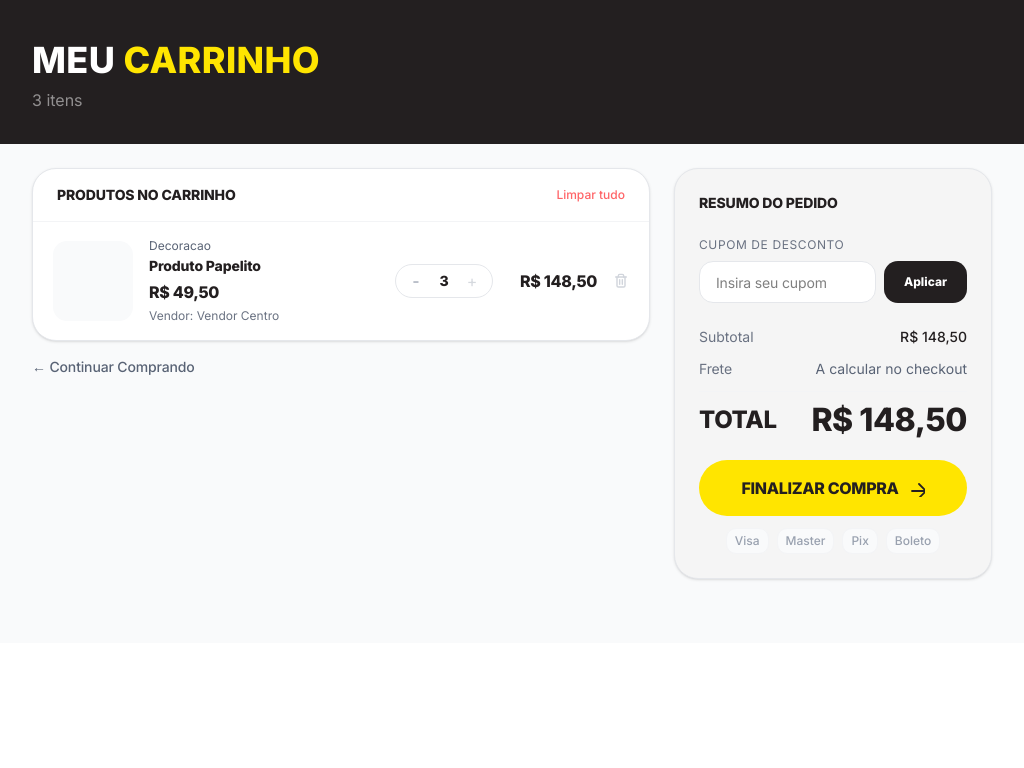
Test case: CartPageContent stock validation › revalidates and stops navigation when stock changed before checkout
Click the button "Finalizar Compra": (833, 488) [699,460,967,516]
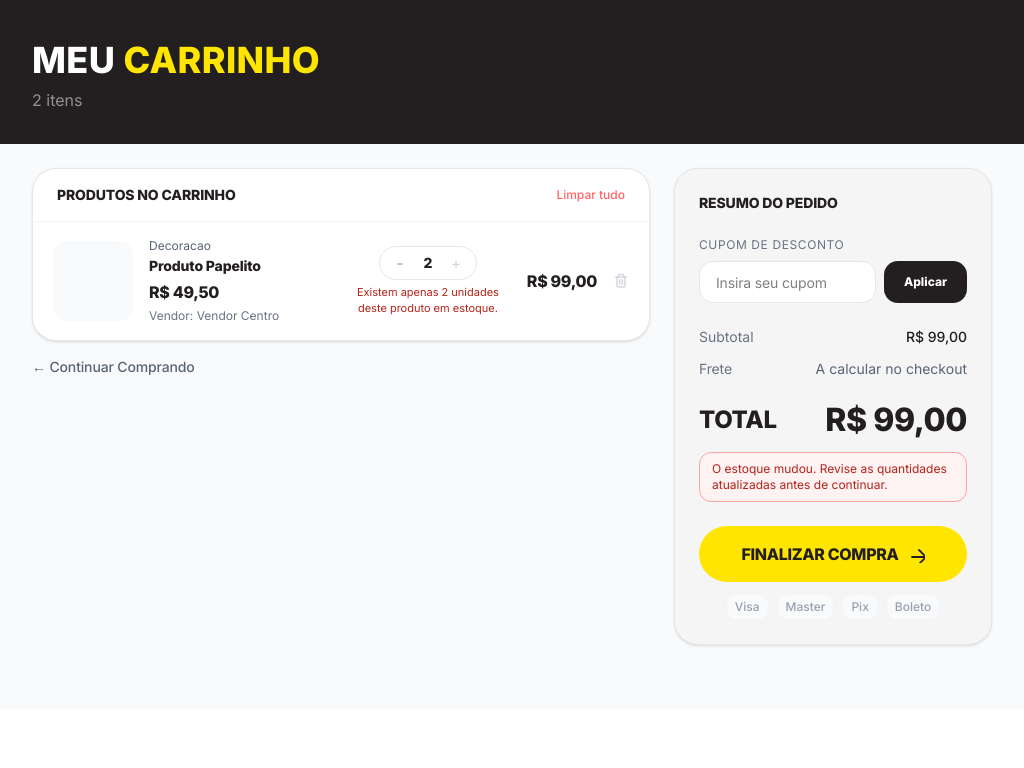
Check: the text "Existem apenas 2 unidades deste produto em estoque." is shown, box [345,284,511,316]
